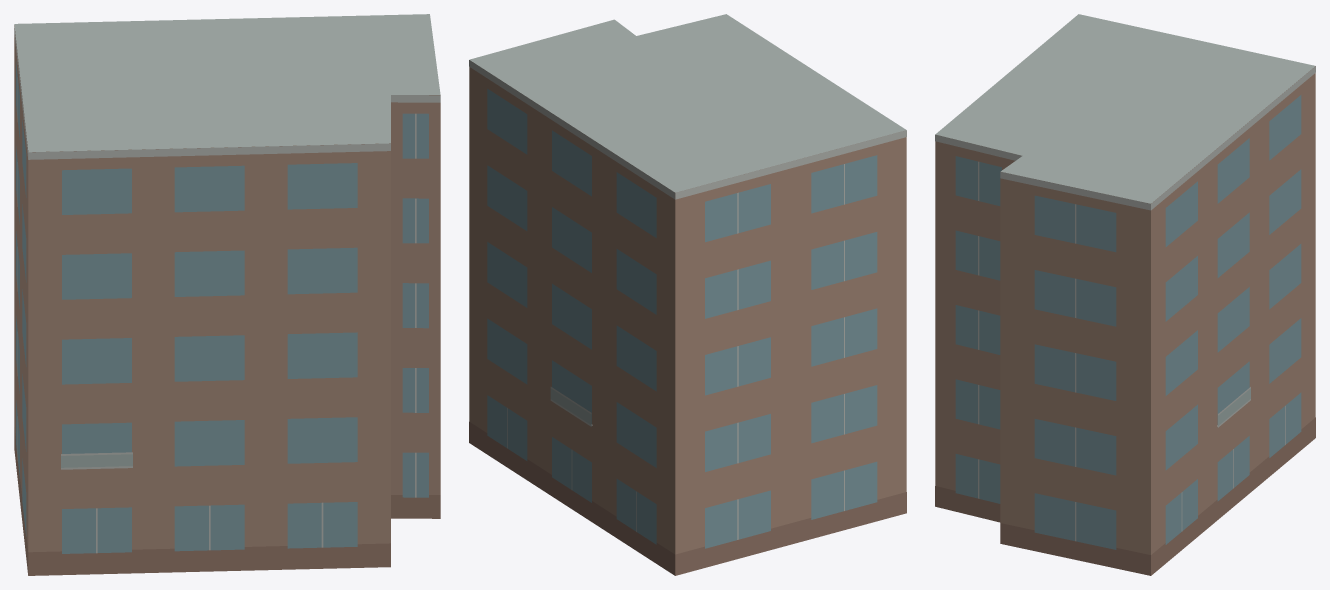
File: survey-upis-32881817.glb
3 views of the same model, side by side, from view 1: azimuth 30°, elevation 25°; view 2: azimuth 150°, elevation 25°; view 3: azimuth 270°, elevation 25° (orthographic). The views are drawn at different scales.
Parts seen in each view (by area): view 1: survey-upis-32881817.tmp; view 2: survey-upis-32881817.tmp; view 3: survey-upis-32881817.tmp.
Boxes of the visible parts, <box> form: survey-upis-32881817.tmp: <box>14,14,440,575</box>; survey-upis-32881817.tmp: <box>469,14,906,575</box>; survey-upis-32881817.tmp: <box>935,14,1315,575</box>.
Size of the model in its own units: 14.78 by 13.5 by 12.52.
